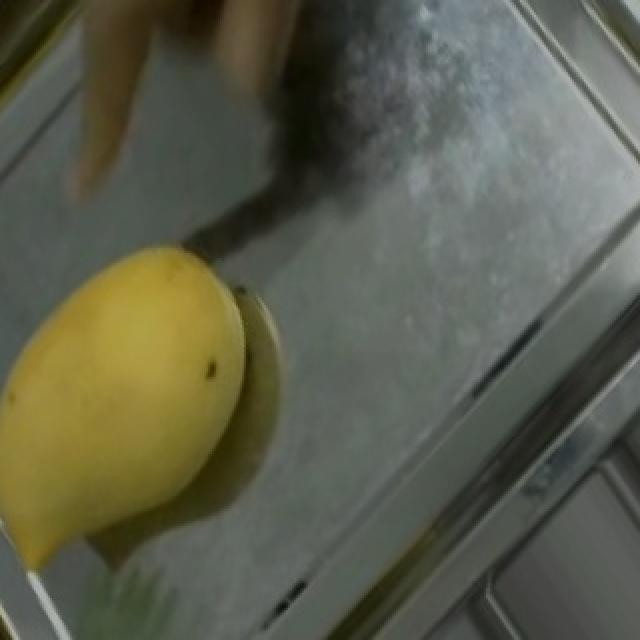fruit: (2, 201, 336, 590)
